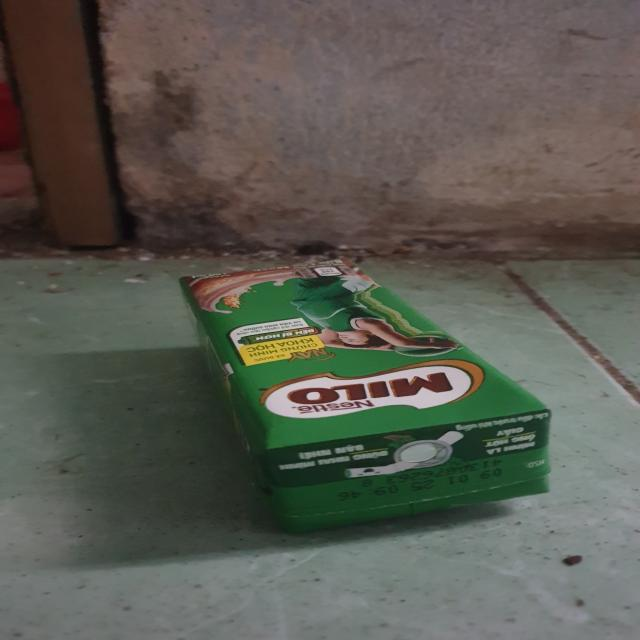Milo: (179, 246, 554, 527)
